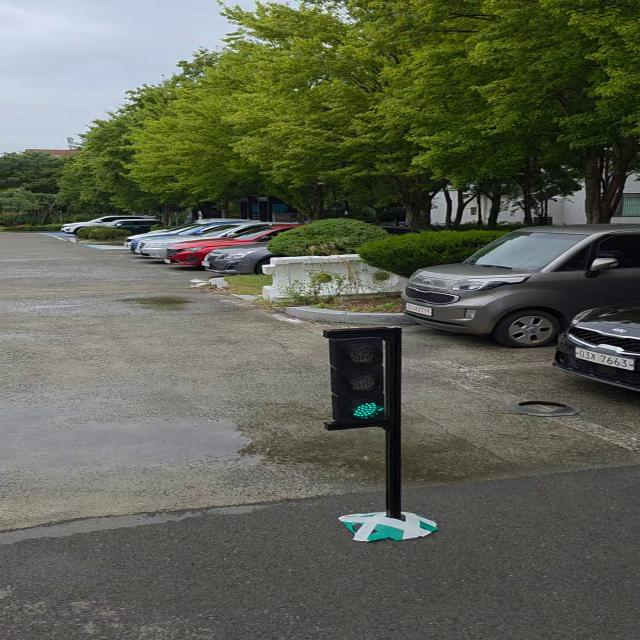green: (330, 331, 400, 425)
